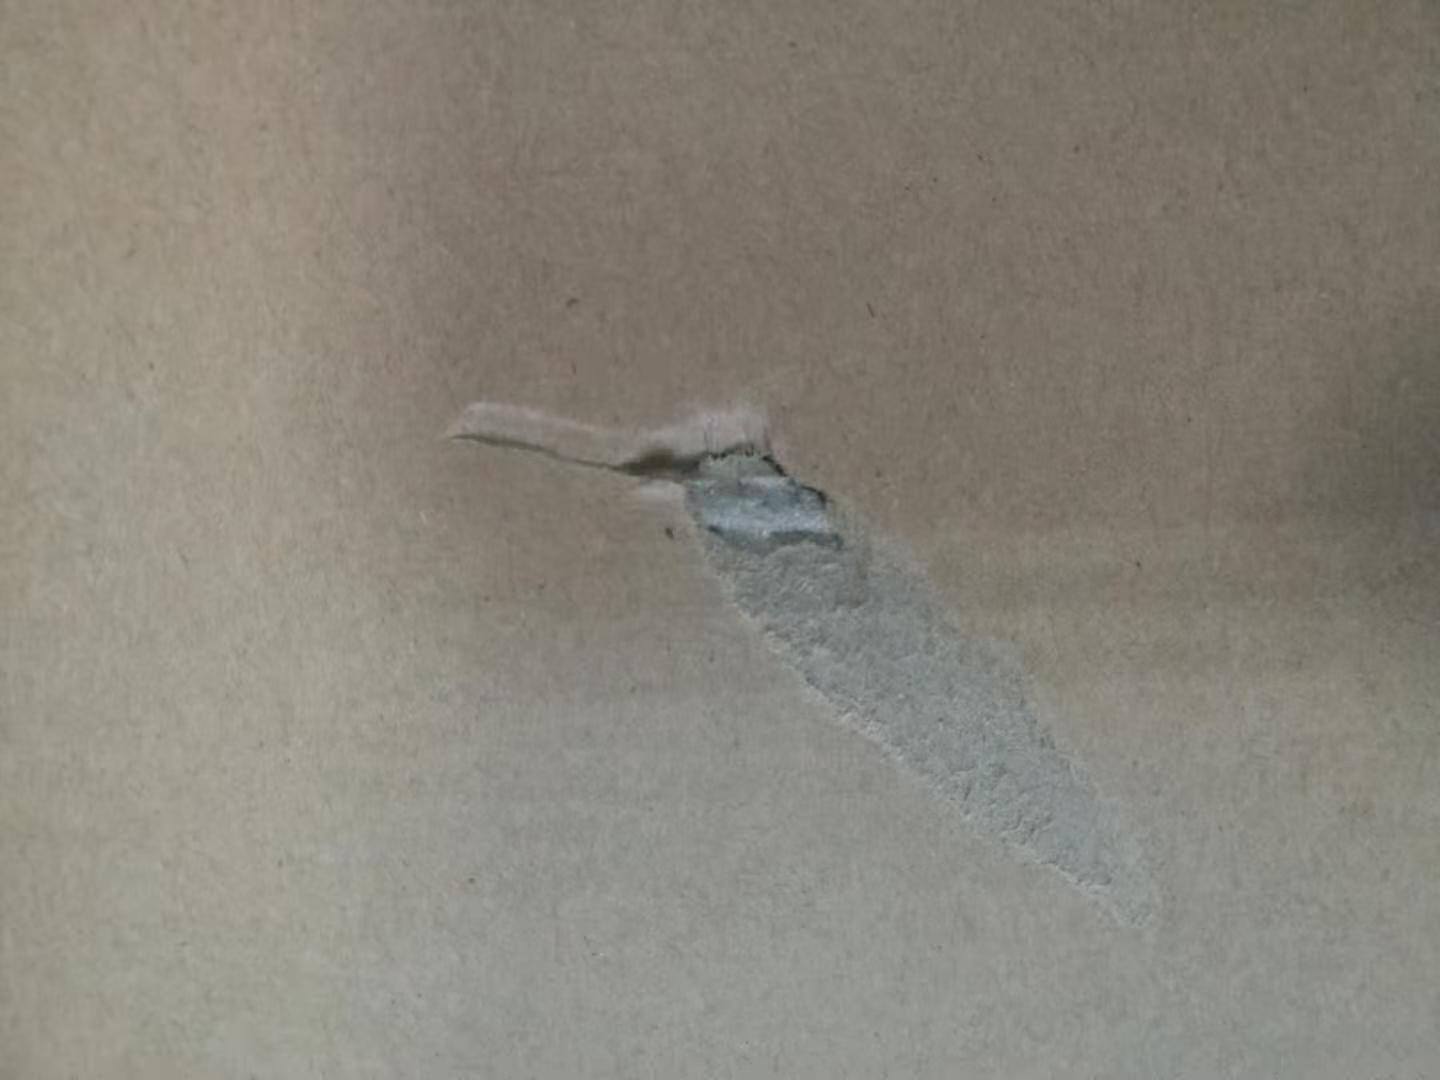defect: (422, 351, 1209, 957)
